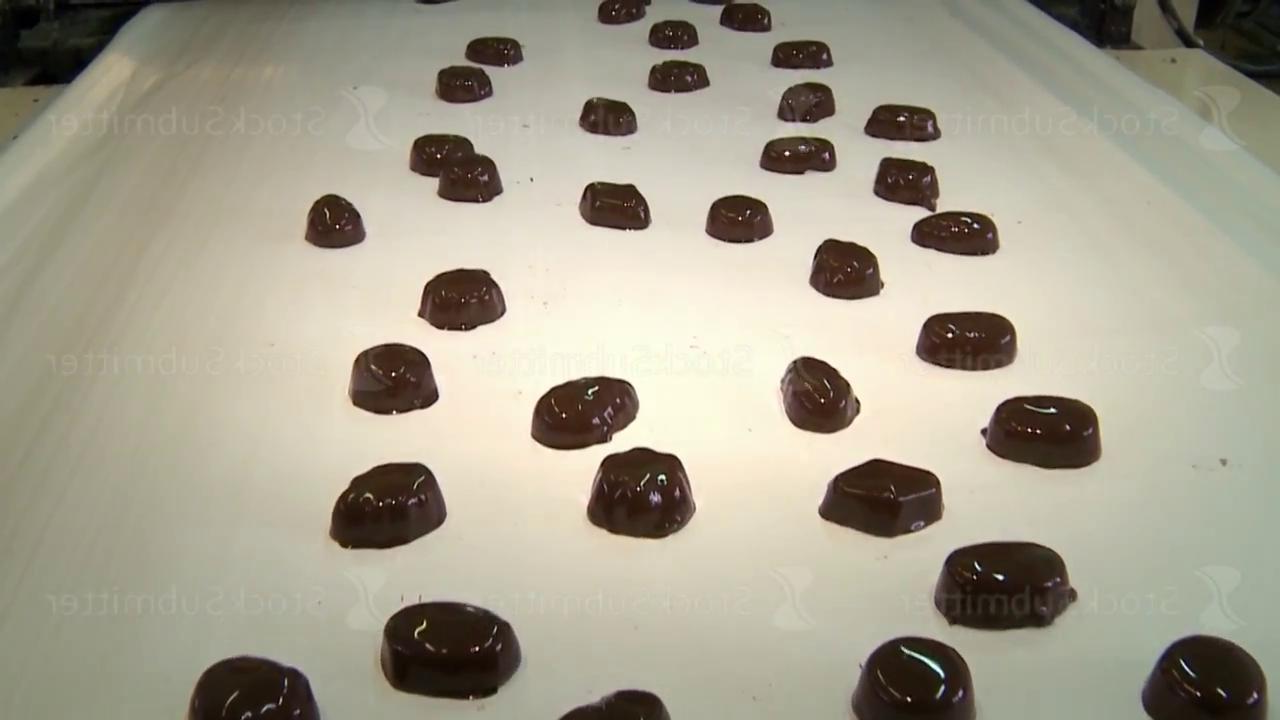chocolate: (380, 600, 522, 699), (934, 540, 1078, 630), (1141, 633, 1269, 719), (851, 635, 976, 719), (331, 461, 447, 549), (587, 446, 696, 538), (819, 458, 944, 537), (982, 394, 1102, 469), (188, 654, 321, 719), (531, 375, 639, 449), (348, 342, 439, 414), (780, 355, 861, 433), (916, 310, 1018, 370), (418, 268, 507, 331), (810, 238, 884, 299), (912, 210, 1000, 255), (579, 181, 652, 230), (874, 156, 940, 210), (559, 688, 672, 719), (305, 193, 366, 248), (706, 194, 774, 243), (438, 153, 503, 202), (760, 135, 837, 174), (865, 103, 941, 141), (410, 133, 474, 176), (778, 81, 836, 123), (580, 96, 638, 136), (648, 59, 710, 93), (437, 65, 493, 102), (771, 39, 833, 69), (466, 36, 524, 67), (720, 2, 772, 32), (649, 19, 699, 49)
